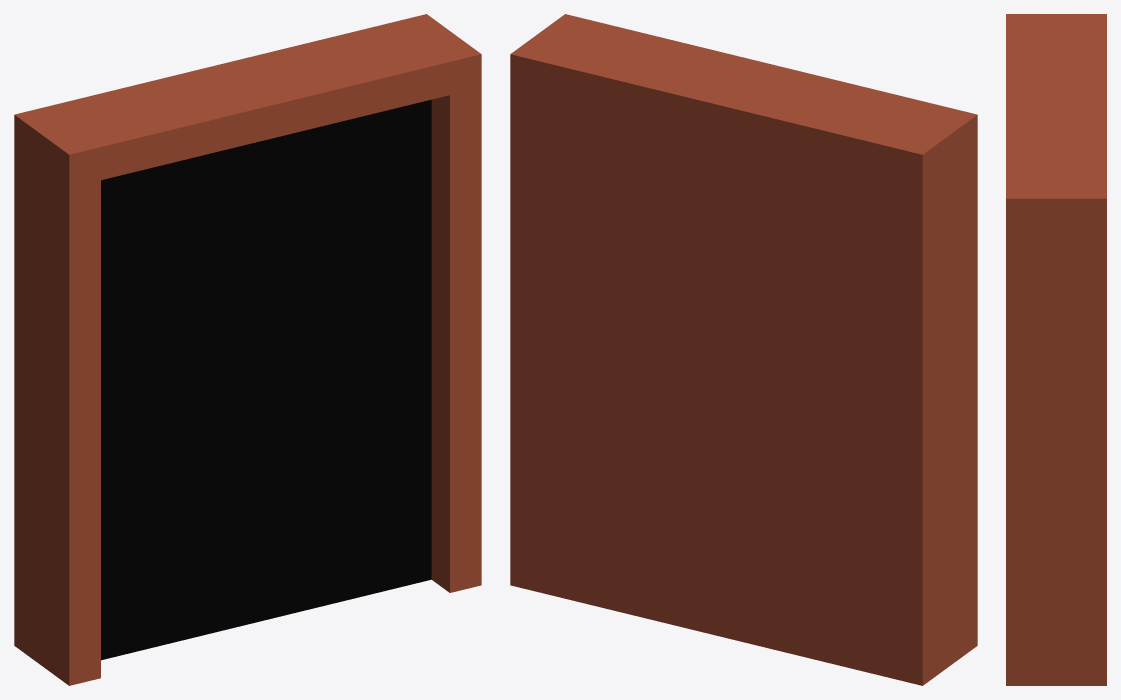
Rendered from dungeon_b_b_entrance_a.obj.
3 renders of one model, left to right at view 1: azimuth 30°, elevation 25°; view 2: azimuth 150°, elevation 25°; view 3: azimuth 270°, elevation 25°, orthographic. The views are drawn at different scales.
Size of the model in its own units: 1.3 by 1.6 by 0.3.
Materials: 1 (1 with a texture image).
